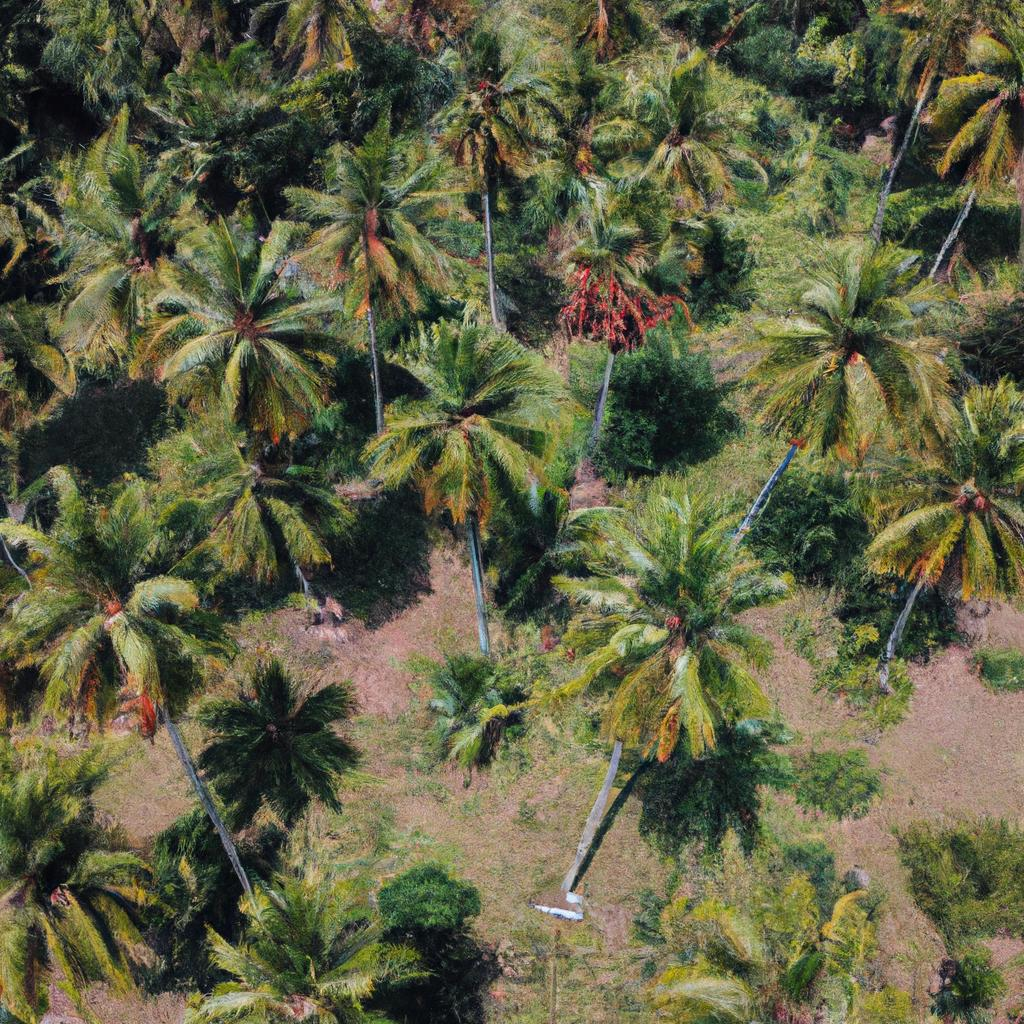coconut_tree: (552, 474, 849, 794), (0, 451, 246, 742), (735, 215, 983, 475), (112, 204, 368, 434), (366, 293, 578, 531), (273, 129, 516, 320)
